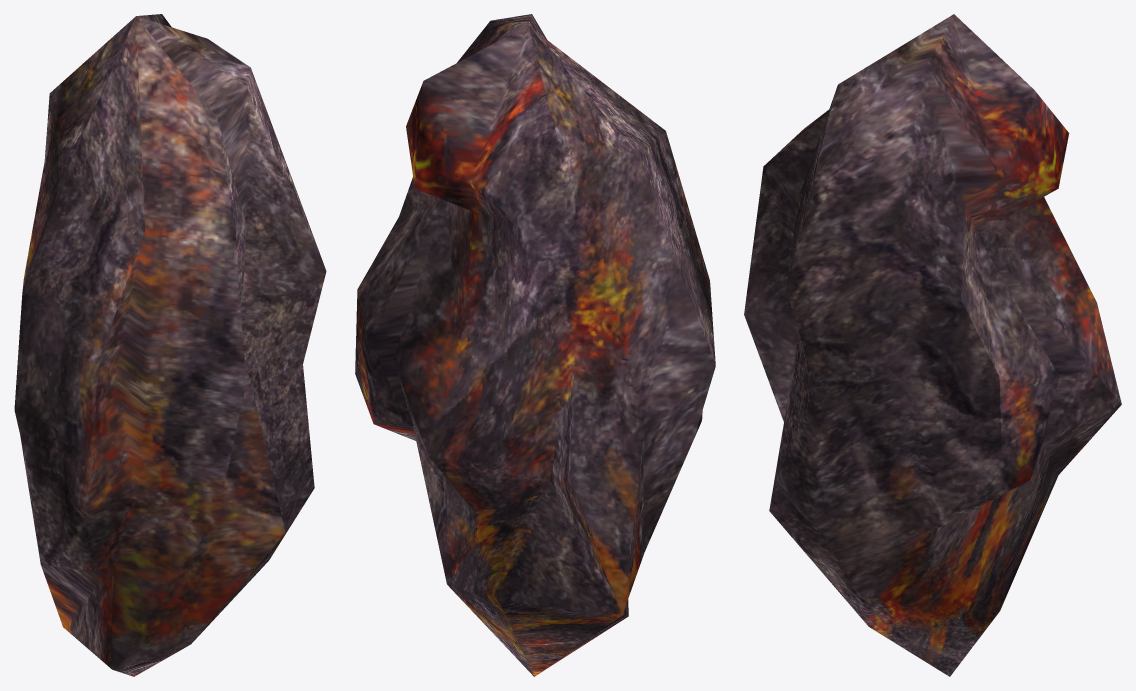
The model's file is stone02.fbx.
3 views of the same model, side by side, from view 1: azimuth 30°, elevation 25°; view 2: azimuth 150°, elevation 25°; view 3: azimuth 270°, elevation 25° (orthographic).
Parts seen in each view (by area): view 1: stone02; view 2: stone02; view 3: stone02.
Part boxes in pixels (left/top/right/bottom): stone02: left=14, top=14, right=326, bottom=676; stone02: left=355, top=14, right=715, bottom=676; stone02: left=744, top=14, right=1121, bottom=676.
Size of the model in its own units: 5.57 by 11.44 by 5.89.
